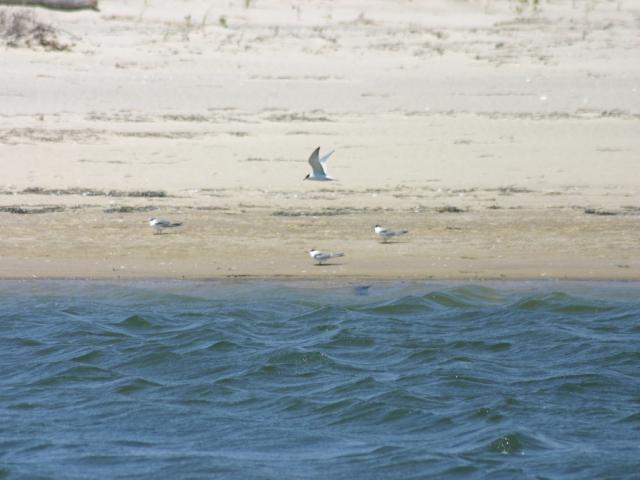Bird: (302, 142, 338, 185), (306, 248, 344, 266), (374, 224, 407, 244), (148, 218, 186, 235)
